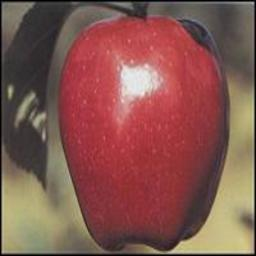apple: (56, 16, 233, 246)
